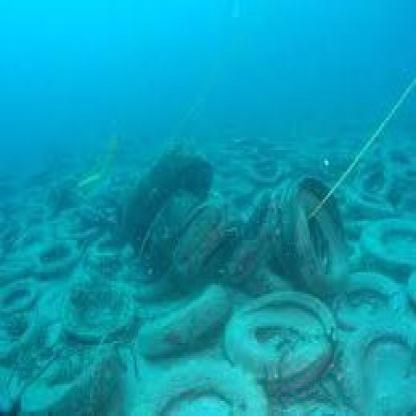tire: (263, 172, 366, 304), (230, 287, 339, 386), (124, 131, 222, 236), (152, 276, 242, 350)
